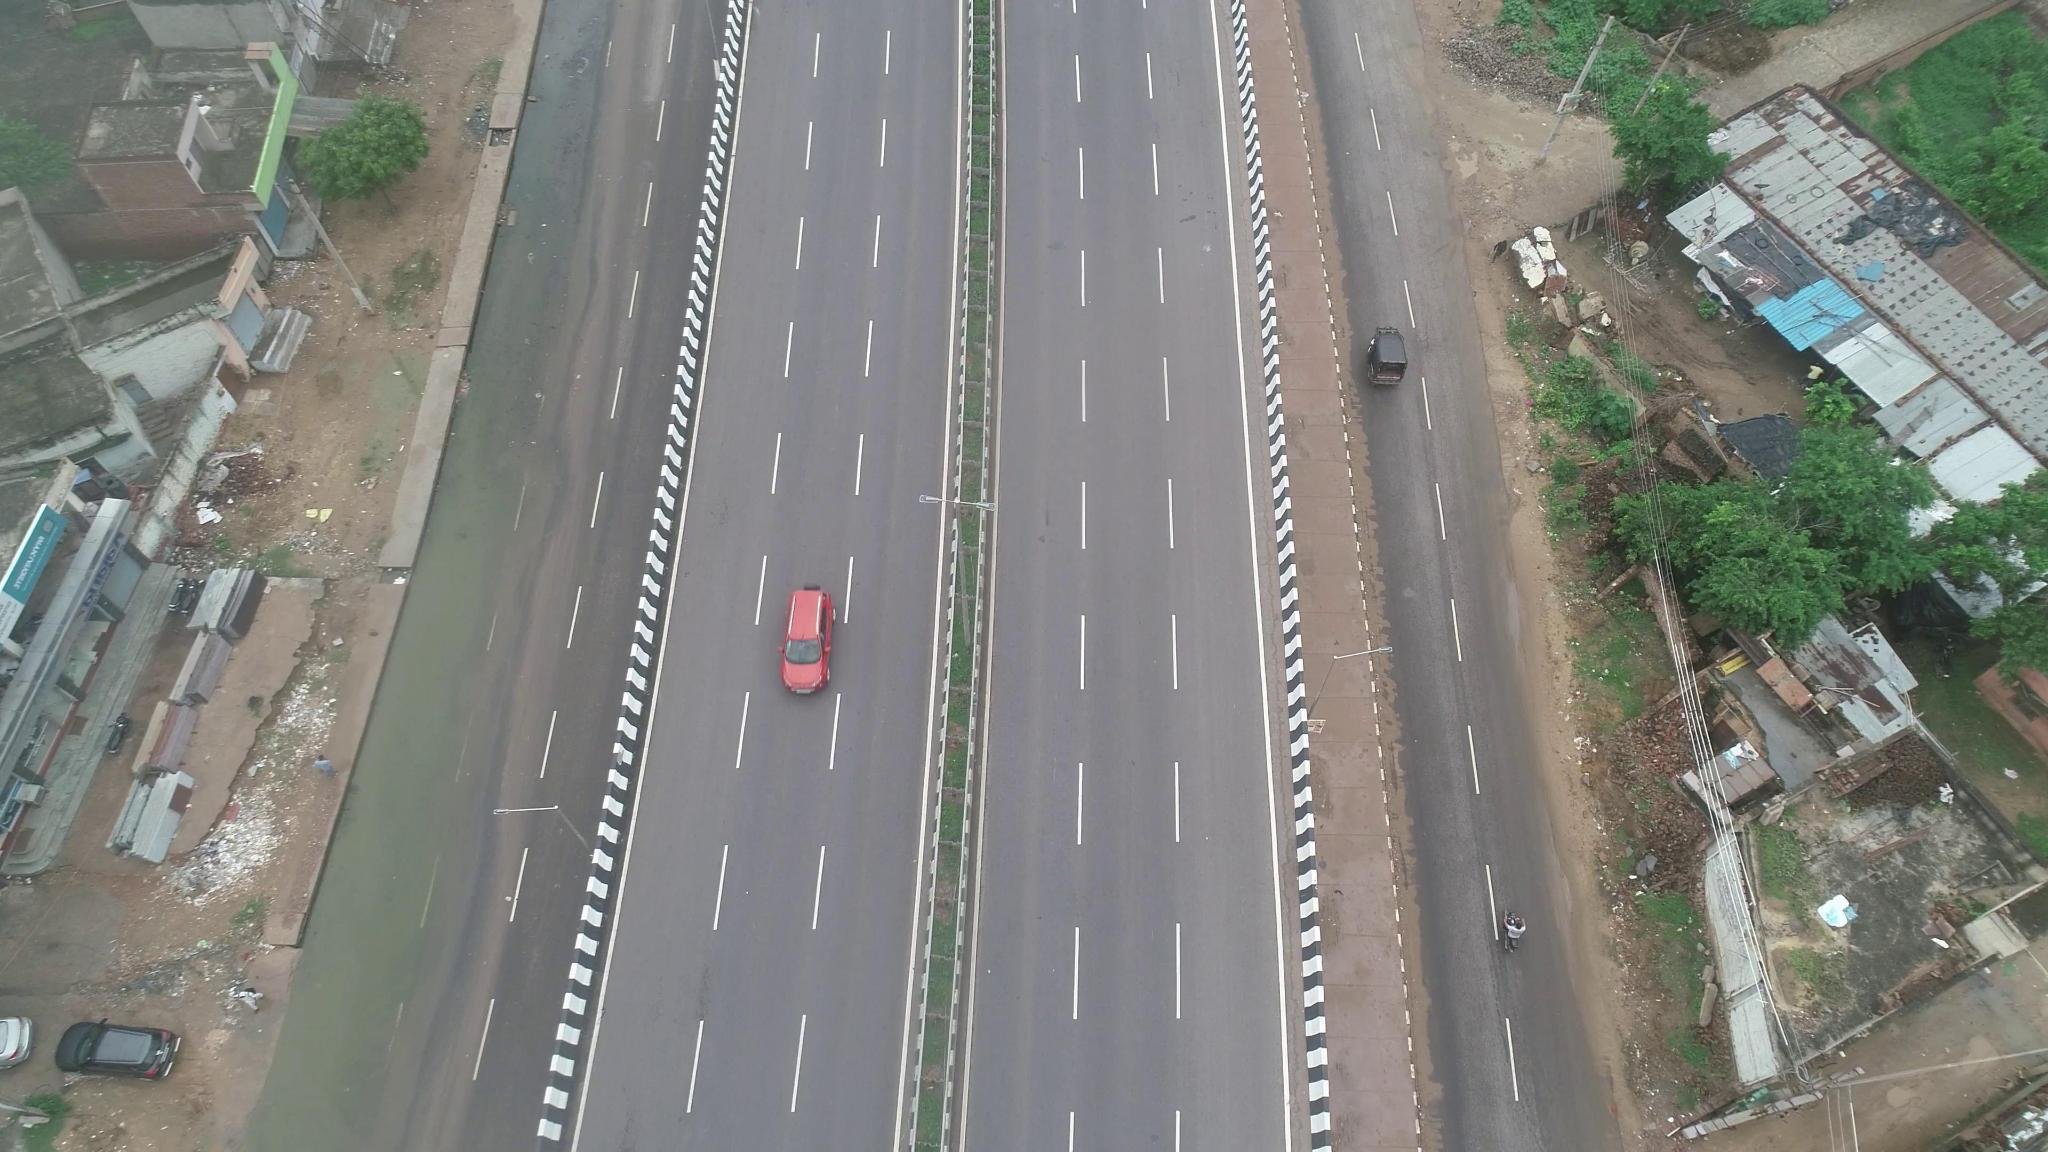Waterlogging: (286, 615, 473, 968), (463, 155, 581, 537)
